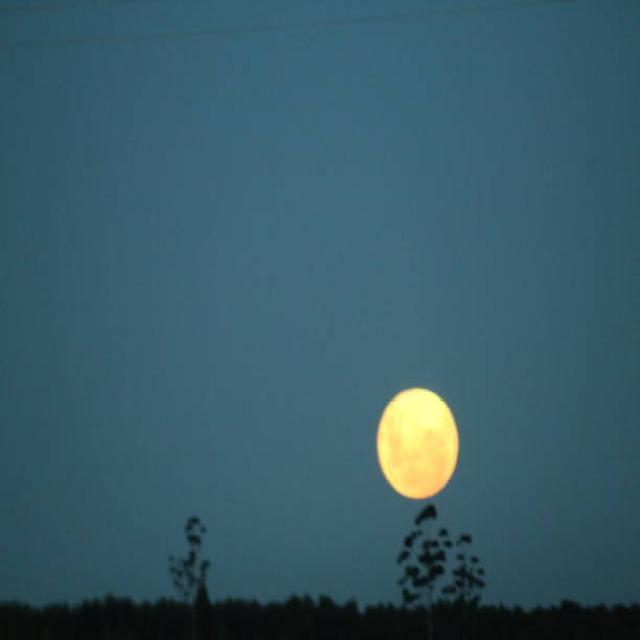moon: (372, 384, 458, 498)
